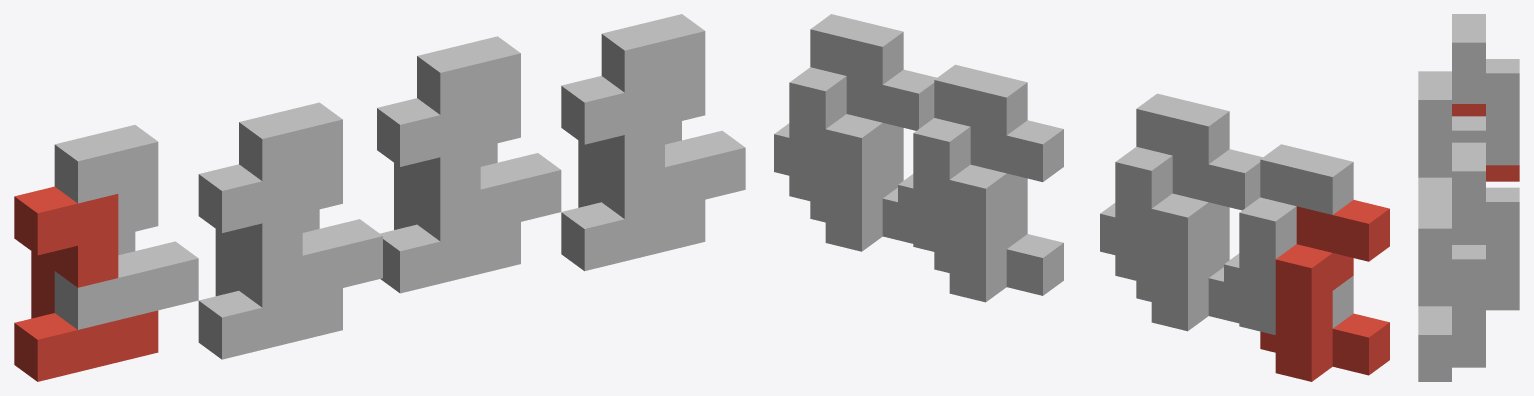
The model's file is tiling.obj.
3 views of the same model, side by side, from view 1: azimuth 30°, elevation 25°; view 2: azimuth 150°, elevation 25°; view 3: azimuth 270°, elevation 25° (orthographic). The views are drawn at different scales.
Parts seen in each view (by area): view 1: copy_1_domain_1, copy_1_domain_2, copy_1_domain_6, copy_1_domain_3, copy_1_domain_8, copy_1_domain_7, copy_1_domain_4, copy_1_domain_5; view 2: copy_1_domain_1, copy_1_domain_5, copy_1_domain_6, copy_1_domain_2, copy_1_domain_7, copy_1_domain_3, copy_1_domain_8, copy_1_domain_4; view 3: copy_1_domain_8, copy_1_domain_7, copy_1_domain_3, copy_1_domain_4, copy_1_domain_6, copy_1_domain_1, copy_1_domain_5, copy_1_domain_2.
Boxes of the visible parts, x1,y1,x2,y2 form: copy_1_domain_1: (14, 186, 158, 381); copy_1_domain_2: (198, 164, 342, 359); copy_1_domain_6: (561, 76, 705, 271); copy_1_domain_3: (54, 125, 198, 329); copy_1_domain_8: (601, 14, 745, 218); copy_1_domain_7: (417, 36, 561, 241); copy_1_domain_4: (239, 102, 382, 307); copy_1_domain_5: (377, 98, 520, 293); copy_1_domain_1: (1260, 200, 1389, 381); copy_1_domain_5: (934, 120, 1063, 302); copy_1_domain_6: (810, 69, 936, 251); copy_1_domain_2: (1136, 149, 1262, 331); copy_1_domain_7: (898, 64, 1027, 255); copy_1_domain_3: (1224, 144, 1353, 334); copy_1_domain_8: (774, 14, 903, 204); copy_1_domain_4: (1100, 93, 1229, 284); copy_1_domain_8: (1418, 200, 1485, 365); copy_1_domain_7: (1452, 142, 1519, 293); copy_1_domain_3: (1452, 14, 1519, 165); copy_1_domain_4: (1418, 71, 1485, 199); copy_1_domain_6: (1418, 290, 1485, 381); copy_1_domain_1: (1452, 104, 1519, 181); copy_1_domain_5: (1452, 232, 1519, 310); copy_1_domain_2: (1418, 161, 1451, 177).
Bounding box in the file's own units: 17 × 5 × 3.
